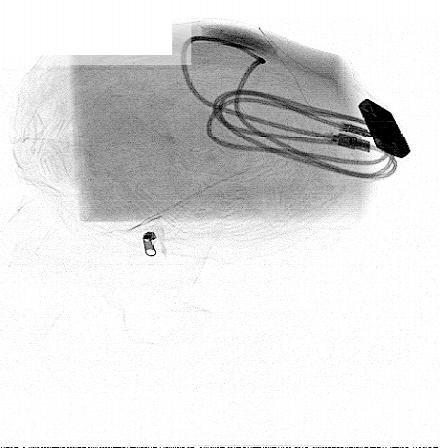Lighter: (358, 97, 411, 159)
